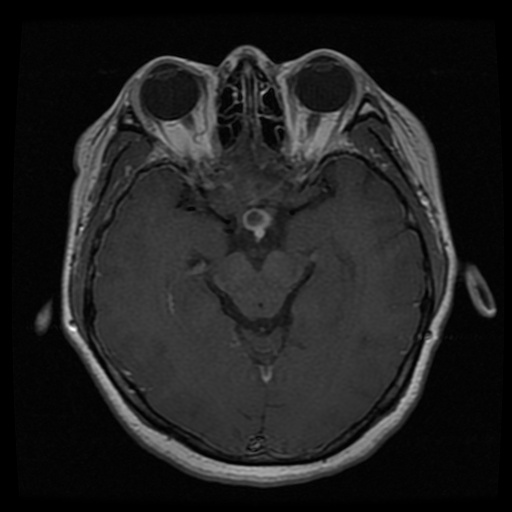pituitary: (244, 208, 272, 240)
